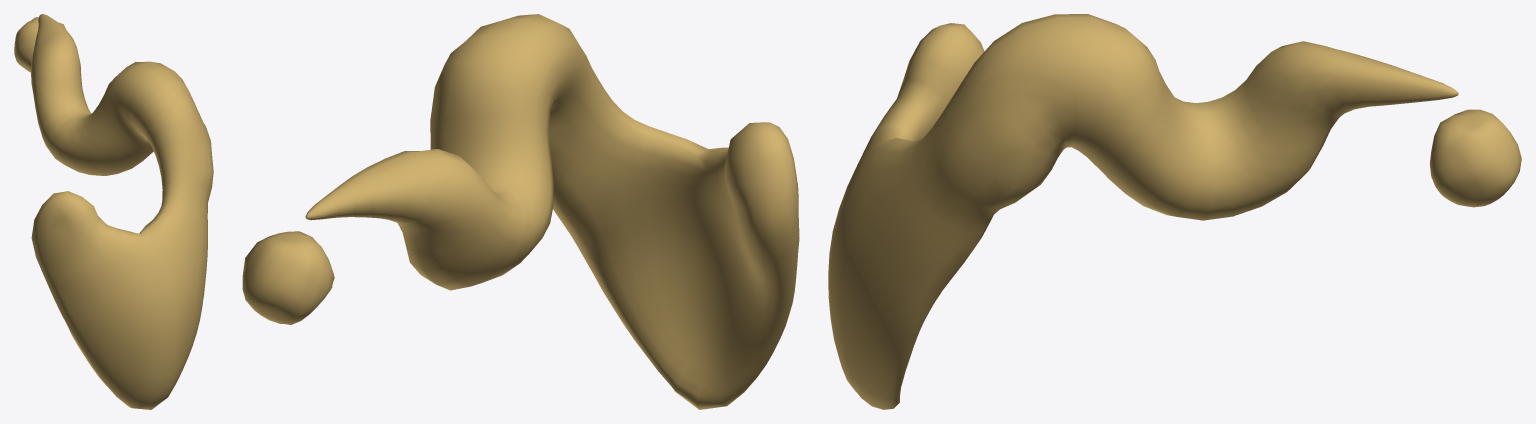
File: gasmask_low.fbx
3 renders of one model, left to right at view 1: azimuth 30°, elevation 25°; view 2: azimuth 150°, elevation 25°; view 3: azimuth 270°, elevation 25°, orthographic. The views are drawn at different scales.
Visible parts, largest first — view 1: gasmask_low; view 2: gasmask_low; view 3: gasmask_low.
Boxes of the visible parts, left/top/right/bottom form: gasmask_low: left=14, top=14, right=213, bottom=409; gasmask_low: left=242, top=14, right=799, bottom=409; gasmask_low: left=828, top=14, right=1521, bottom=409.
Size of the model in its own units: 31.44 by 42.95 by 61.46.
